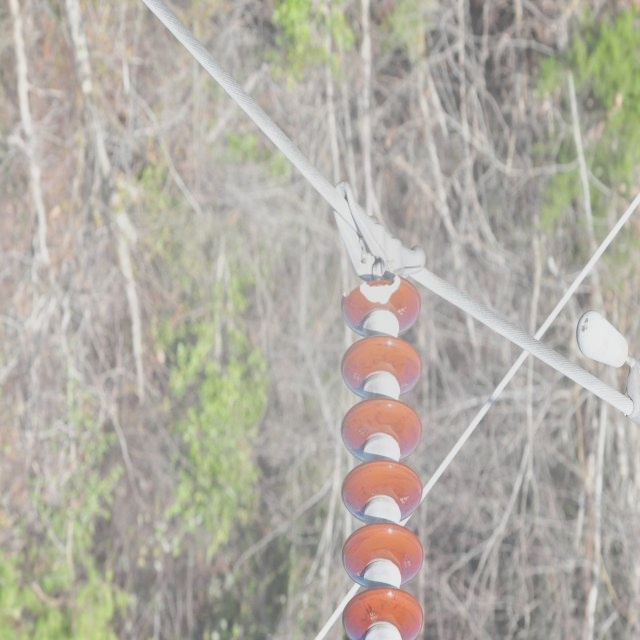broken: (338, 274, 403, 302)
insulator: (338, 276, 423, 639)
